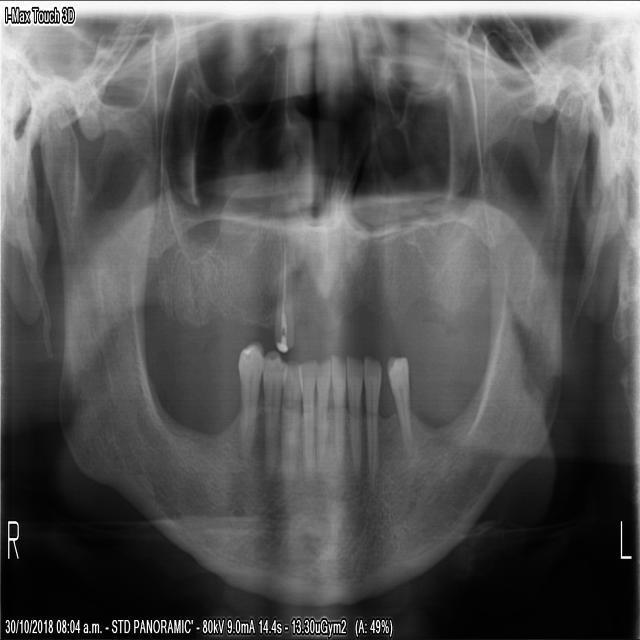LCD: (344, 344, 364, 479)
LCU: (270, 243, 293, 354)
LID: (328, 347, 346, 469), (313, 353, 329, 465)
LPMD: (383, 353, 414, 459), (361, 351, 381, 476)
RCD: (260, 349, 289, 477)
RID: (277, 362, 301, 481), (296, 353, 314, 476)
RPMD: (233, 336, 265, 452)
